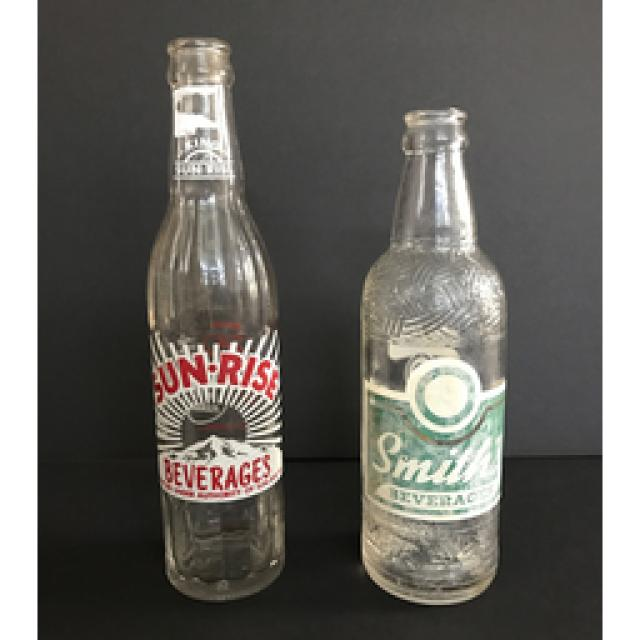glass_beverage_bottles: (142, 38, 292, 600), (362, 103, 506, 608)
